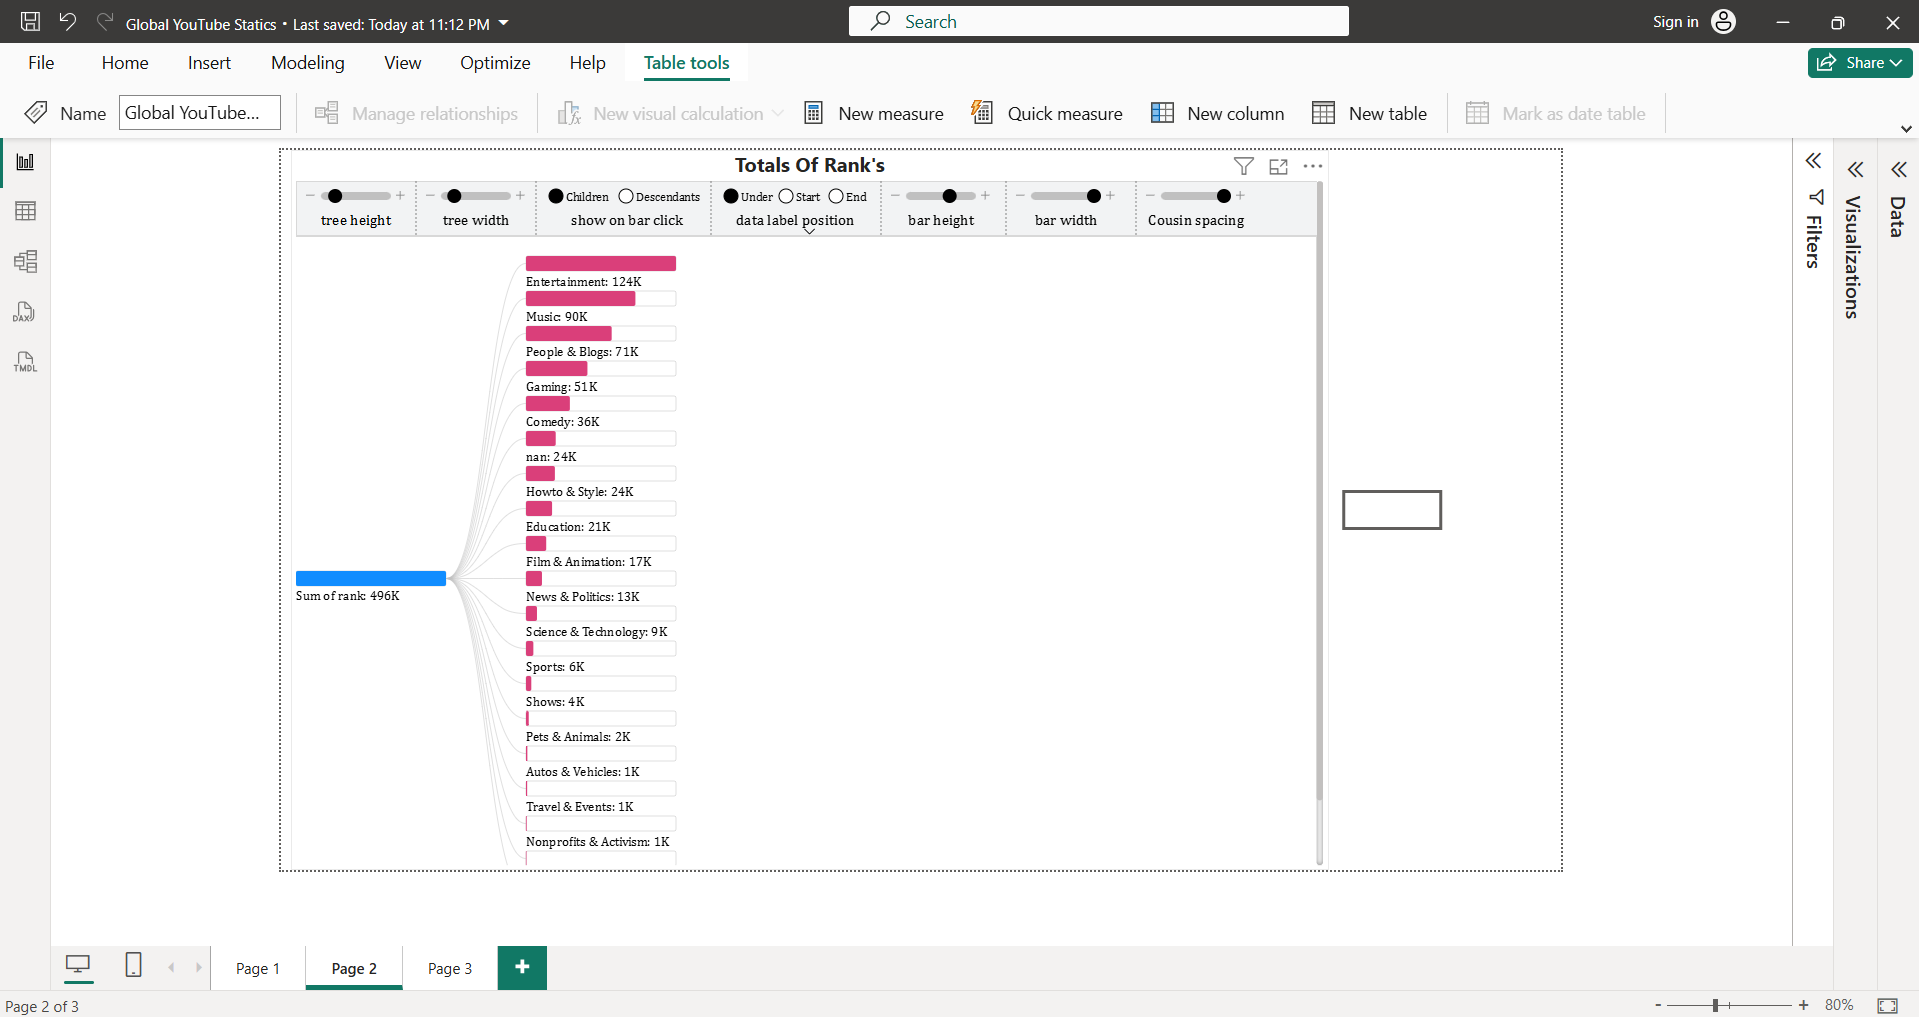

Layout of this report page (visuals, bound fields, positions):
{"tool":"powerbi","page":{"name":"Page 2","canvas":[1280,720],"ordinal":1},"visuals":[{"type":"decomposition50DB3783432B40A69C0B91926CE74CD9","title":"Totals Of Rank''s ","fields":{"Category":["Global YouTube Statistics.category"],"Measure":["Sum(Global YouTube Statistics.rank)"]},"box":[10,0,1037.1,720],"z":0},{"type":"actionButton","box":[1061.4,340,100,40],"z":1000}]}

Visuals, with their boxes on the page's 1280x720 design canvas (x1, y1, x2, y2). These are canvas units, not pixel positions in the 1919x1017 screenshot, which may show the page scaled, cropped or inside an application window:
"Totals Of Rank''s " decomposition50DB3783432B40A69C0B91926CE74CD9: crop(10, 0, 1047, 720)
actionButton: crop(1061, 340, 1161, 380)
